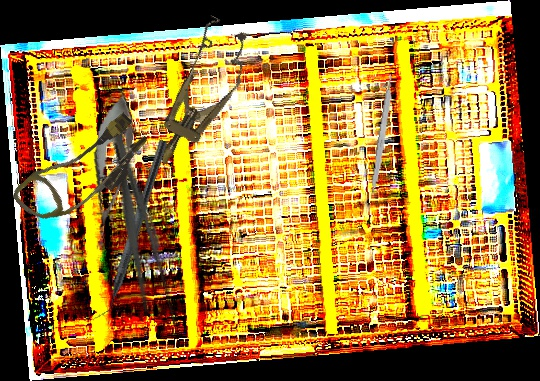Cannula: (9, 99, 158, 244)
Chopper: (91, 135, 168, 325)
Dressing Forceps: (97, 118, 182, 332)
Micro Scissor: (80, 89, 141, 253)
Scalpel Handle: (369, 74, 397, 194)
Speculum: (136, 13, 263, 178)
